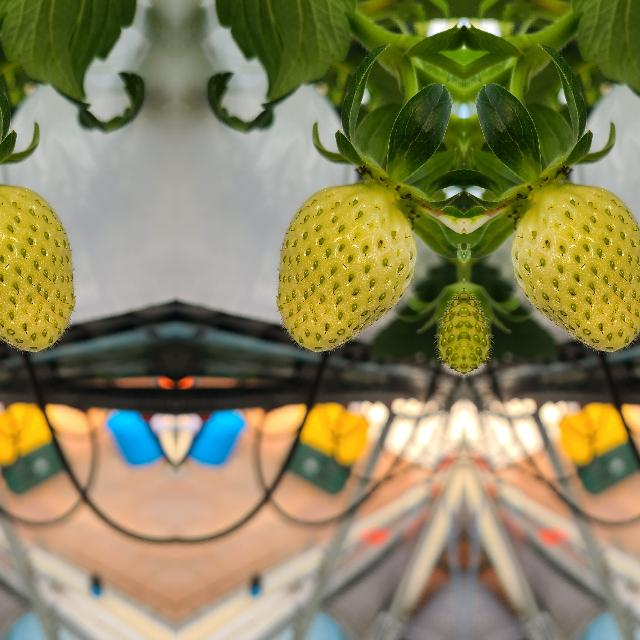Health_25: (275, 182, 415, 356), (511, 182, 640, 355), (0, 182, 75, 355)
